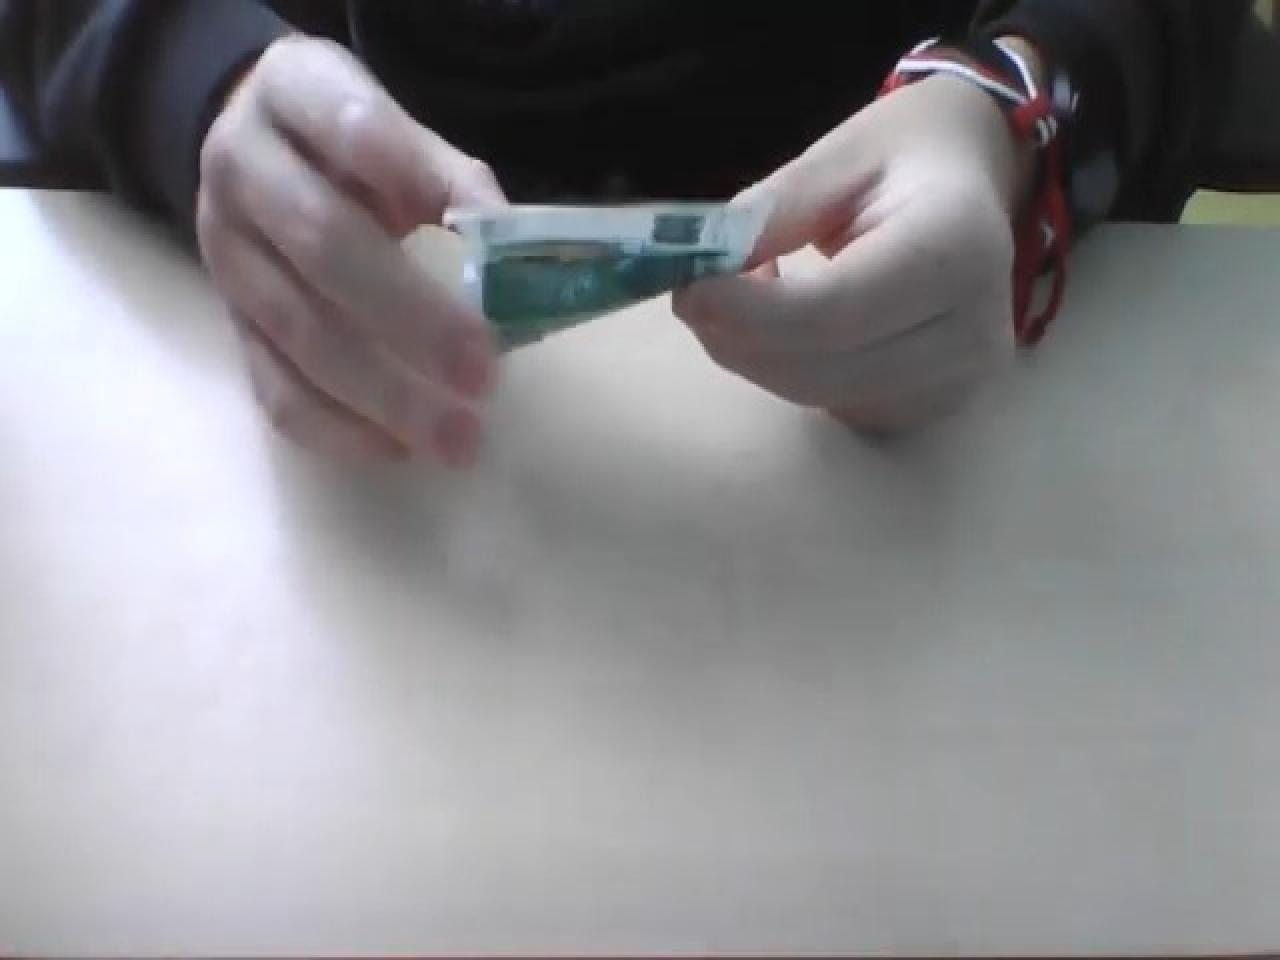100leva: (438, 195, 756, 352)
